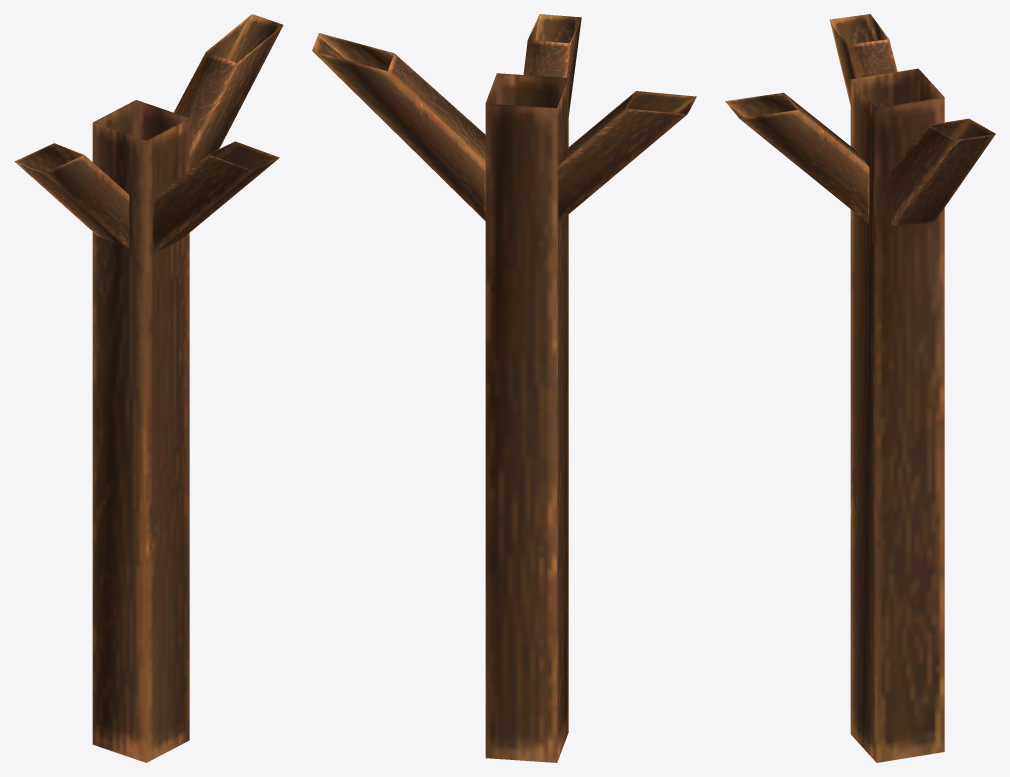
The model's file is SWORDLIGHT20_JAILPLATSUPPORT56.fbx.
The picture shows the model from 3 angles, left to right: view 1: azimuth 30°, elevation 25°; view 2: azimuth 150°, elevation 25°; view 3: azimuth 270°, elevation 25°; orthographic projection. The views are drawn at different scales.
Parts seen in each view (by area): view 1: SWORDLIGHT20_JAILPLATSUPPORT56; view 2: SWORDLIGHT20_JAILPLATSUPPORT56; view 3: SWORDLIGHT20_JAILPLATSUPPORT56.
Part boxes in pixels (left/top/right/bottom): SWORDLIGHT20_JAILPLATSUPPORT56: left=14, top=14, right=283, bottom=762; SWORDLIGHT20_JAILPLATSUPPORT56: left=312, top=14, right=696, bottom=762; SWORDLIGHT20_JAILPLATSUPPORT56: left=725, top=14, right=995, bottom=762.
Size of the model in its own units: 20753 by 41975 by 14933.
Materials: 1 (1 with a texture image).
